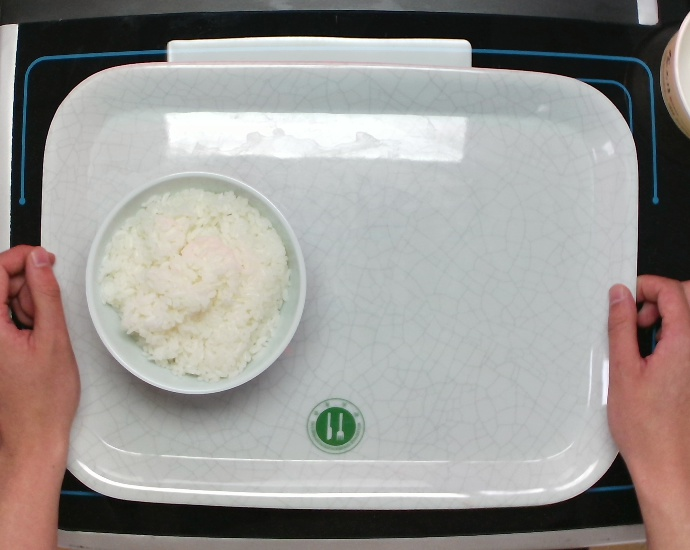JYsf-Fan_Wan: (81, 167, 309, 398)
